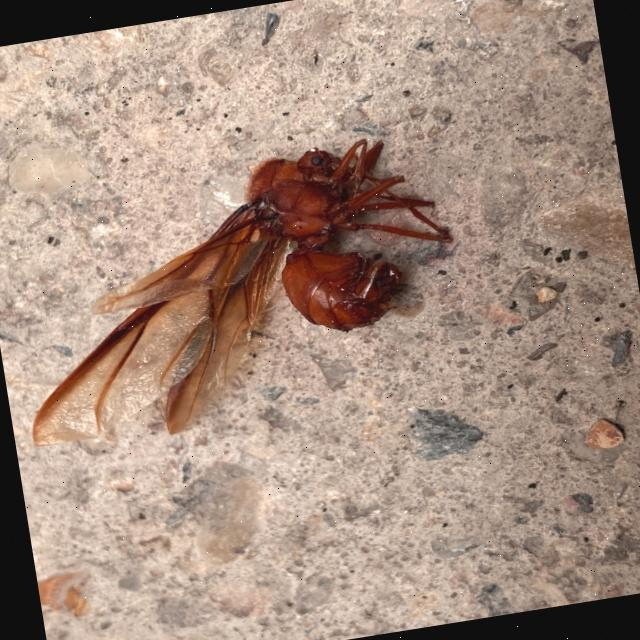Dead-Male-Alate: (0, 127, 477, 457)
